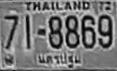1: (25, 15, 30, 48)
6: (81, 14, 95, 47)
7: (3, 14, 18, 48)
8: (48, 15, 62, 48), (64, 14, 78, 47)
9: (97, 14, 112, 47)
NPT: (35, 49, 82, 69)
